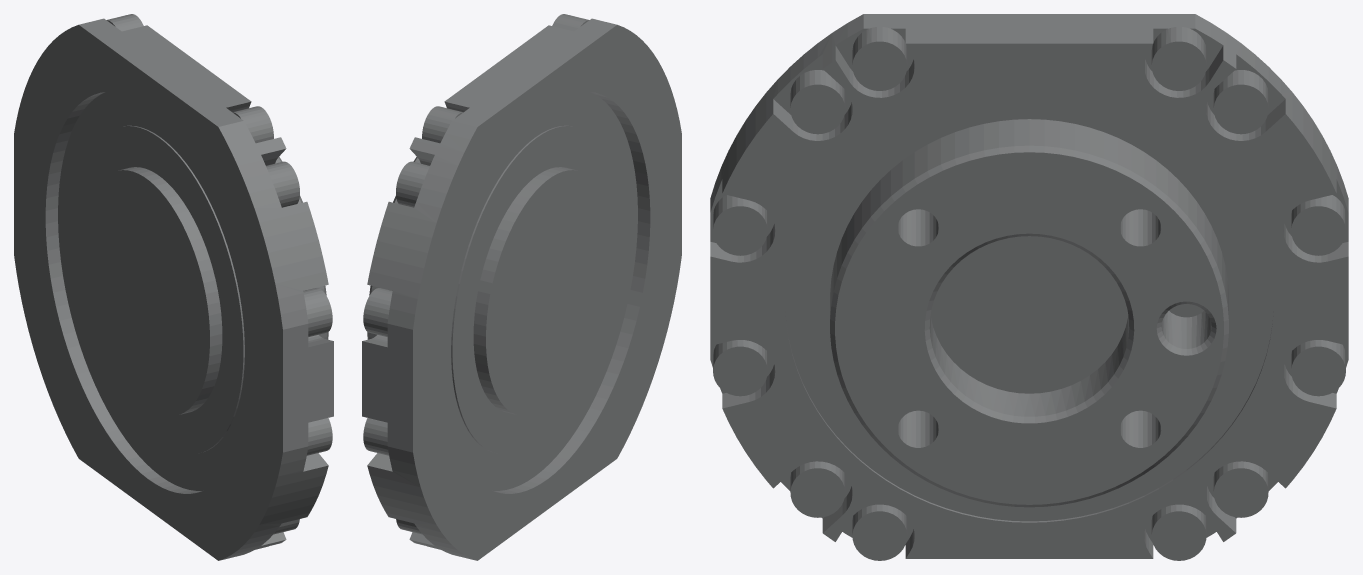
3 renders of one model, left to right at view 1: azimuth 30°, elevation 25°; view 2: azimuth 150°, elevation 25°; view 3: azimuth 270°, elevation 25°, orthographic. The views are drawn at different scales.
Visible parts, largest first — view 1: RV-7F_WRIST_07; view 2: RV-7F_WRIST_07; view 3: RV-7F_WRIST_07.
Part boxes in pixels (x1,y1,x2,y2): RV-7F_WRIST_07: [14, 14, 333, 560]; RV-7F_WRIST_07: [362, 14, 681, 560]; RV-7F_WRIST_07: [710, 14, 1348, 560].
Size of the model in its own units: 0.0137 by 0.064 by 0.0574.
Materials: 1 (1 with a texture image).
